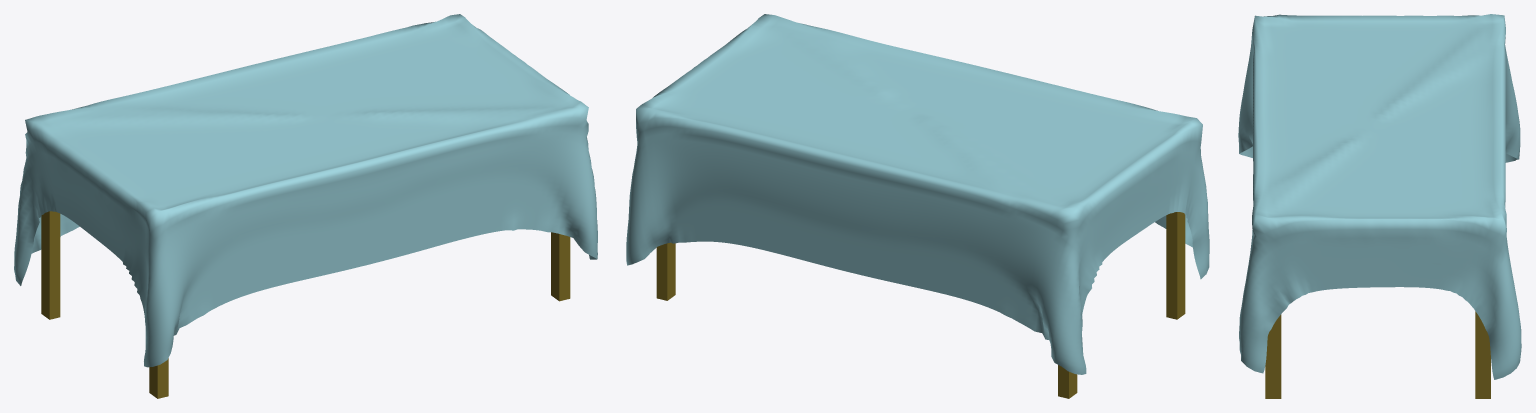
Rendered from Mesa.OBJ.
3 views of the same model, side by side, from view 1: azimuth 30°, elevation 25°; view 2: azimuth 150°, elevation 25°; view 3: azimuth 270°, elevation 25° (orthographic). The views are drawn at different scales.
Parts seen in each view (by area): view 1: Mesa:pPlane2; view 2: Mesa:pPlane2; view 3: Mesa:pPlane2.
Part boxes in pixels (x1=…): Mesa:pPlane2: x1=14, y1=14, x2=597, y2=398; Mesa:pPlane2: x1=626, y1=14, x2=1209, y2=398; Mesa:pPlane2: x1=1238, y1=14, x2=1521, y2=398.
Size of the model in its own units: 5.83 by 2.38 by 3.26.
Materials: 2 (2 with a texture image).
